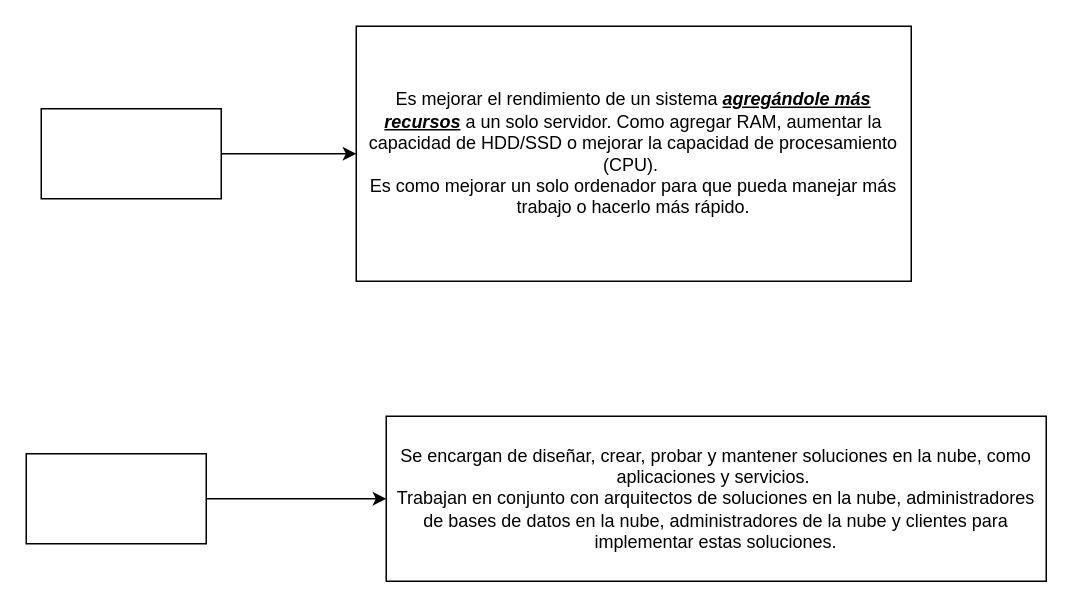
Image size: 1073x608. Some labels were removed from this diagram. The box of each missing label's shape, as (x1, y1, x2, y2) in pixels:
Cloud dev: (25, 452, 206, 544)
¿Qué es escalado vertical?: (40, 107, 221, 199)
